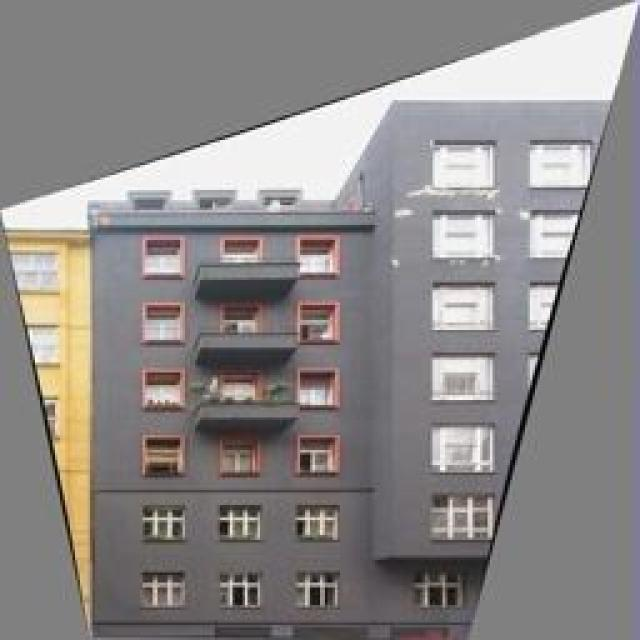Window: (430, 422, 495, 472), (432, 142, 496, 188), (432, 212, 492, 260), (432, 285, 492, 330), (432, 355, 492, 400), (432, 495, 492, 540), (532, 142, 590, 188), (412, 568, 462, 608), (530, 210, 568, 258), (298, 570, 340, 608), (142, 235, 182, 273), (142, 570, 185, 605), (220, 505, 262, 540), (220, 437, 258, 475), (145, 302, 183, 340), (298, 505, 338, 540), (142, 504, 182, 538), (220, 572, 260, 606), (297, 370, 335, 405), (145, 440, 183, 475), (145, 372, 183, 406), (302, 305, 338, 340), (300, 435, 335, 470), (300, 238, 335, 272), (220, 305, 258, 333), (530, 282, 550, 330), (222, 240, 260, 262), (222, 378, 255, 400)
